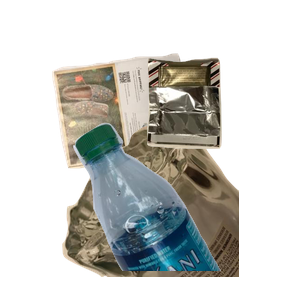glass: (60, 120, 300, 300)
paper: (49, 51, 235, 212)
plastic: (71, 120, 300, 300)
trash: (144, 55, 300, 197)
